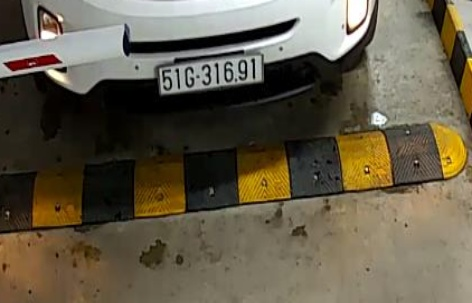plate: (153, 57, 268, 99)
